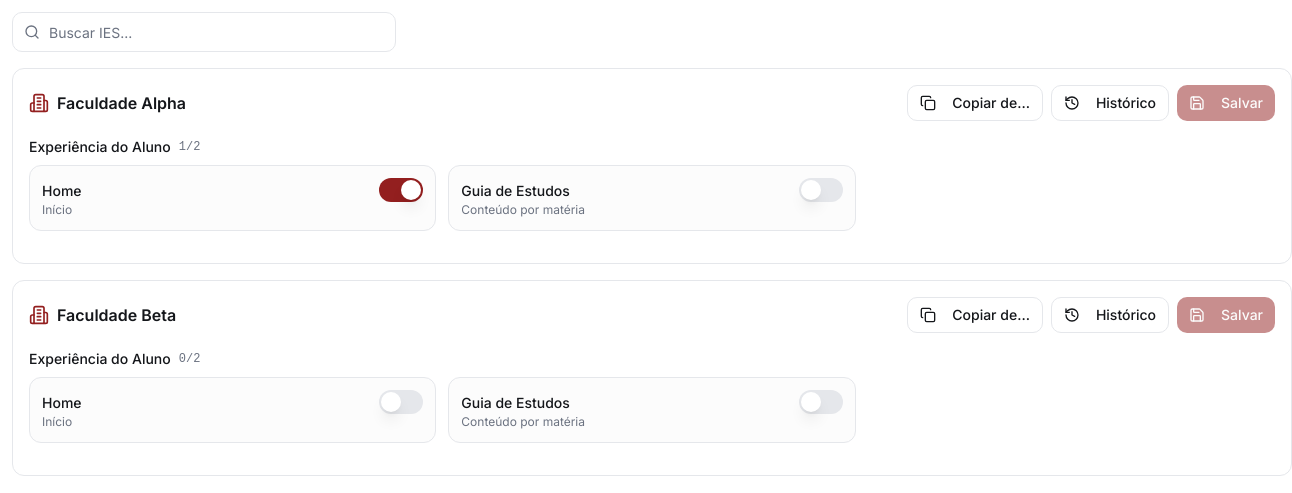
Test: IesFeaturesBoard › busca filtra a lista por nome (case/acento-insensitive)
Expected: the text "Faculdade Alpha" is shown, [57,91,186,115]
Type "ALPHA" into the field with placeholder "Buscar IES..." at (204, 32), box [12,12,396,52]
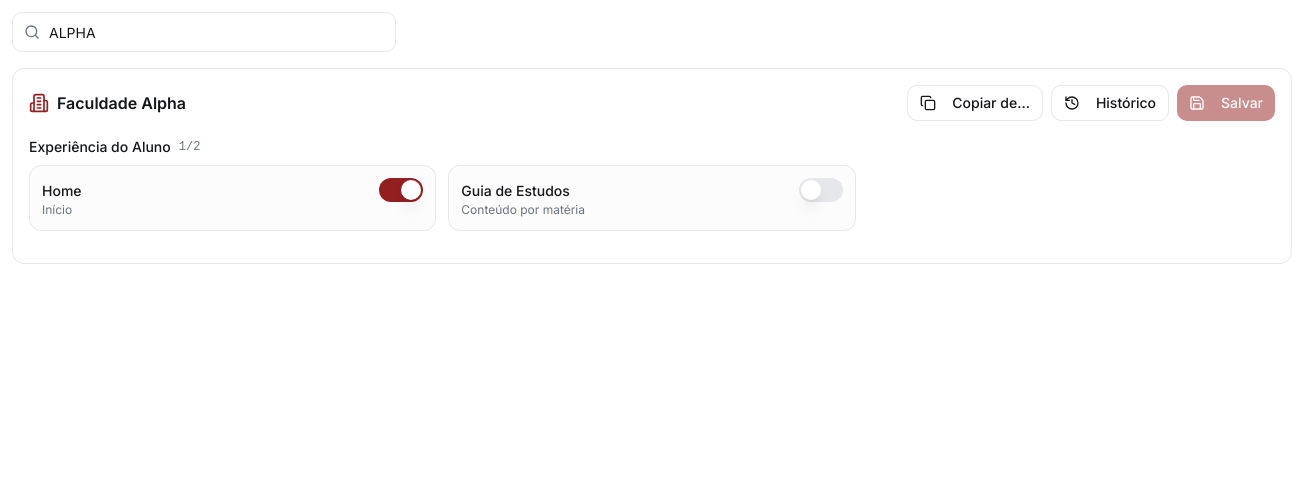
Expected: the text "Faculdade Alpha" is shown, [57,91,186,115]
Expected: the text "Faculdade Beta" is gone
